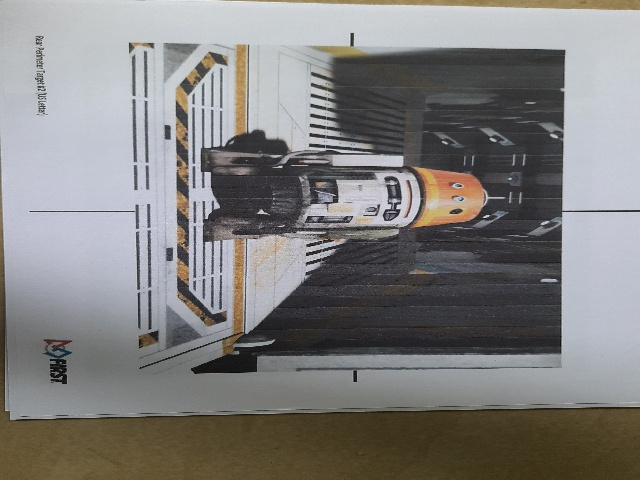rept2: (14, 4, 637, 418)
